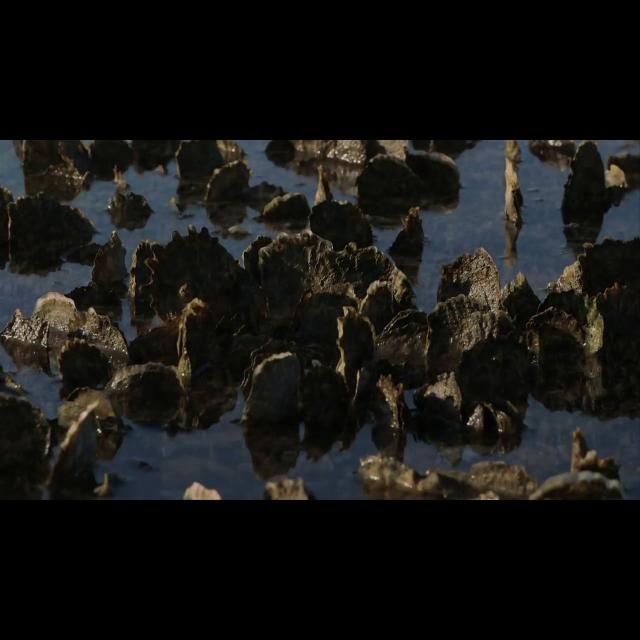Oyster-Closed: (136, 219, 251, 323), (3, 183, 100, 272), (458, 309, 534, 417), (311, 238, 421, 310), (174, 300, 234, 431), (257, 230, 337, 328), (12, 310, 90, 398), (422, 289, 499, 375), (434, 234, 511, 315), (553, 234, 638, 299), (106, 363, 190, 428), (558, 141, 612, 229), (518, 304, 589, 370), (242, 348, 303, 420), (338, 305, 381, 406), (52, 330, 122, 392), (62, 302, 131, 359), (27, 282, 88, 346), (371, 369, 415, 456), (293, 288, 360, 340), (306, 199, 374, 250), (585, 282, 640, 345), (304, 357, 352, 427), (379, 306, 430, 368), (410, 372, 465, 423), (89, 228, 130, 294), (3, 303, 56, 353), (500, 268, 545, 323), (532, 288, 591, 328), (391, 198, 428, 256), (202, 160, 253, 202), (501, 152, 527, 230), (127, 233, 151, 316), (258, 188, 311, 220), (312, 158, 337, 204)
